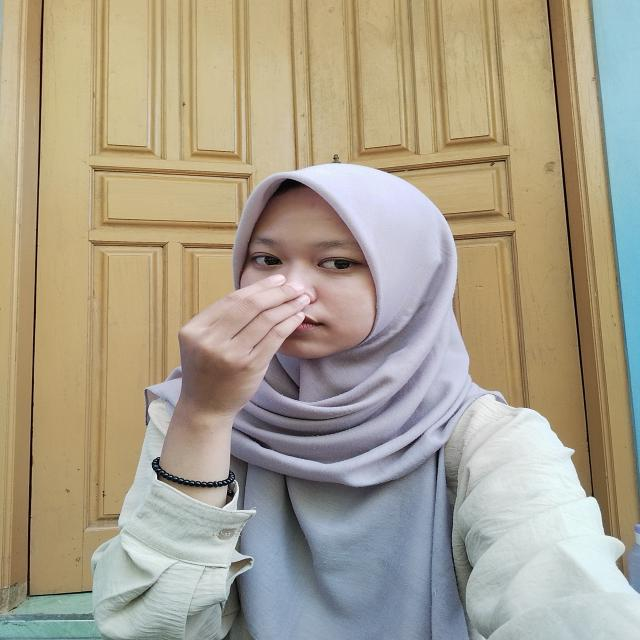bau: (137, 266, 334, 454)
